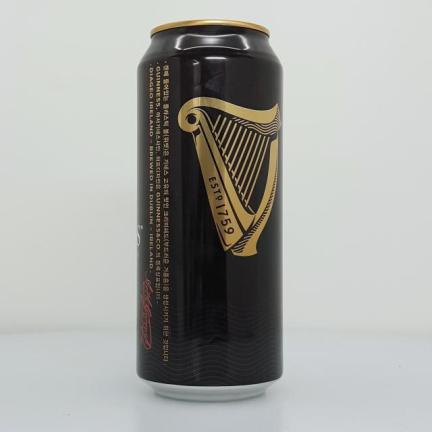can: (137, 21, 283, 400)
